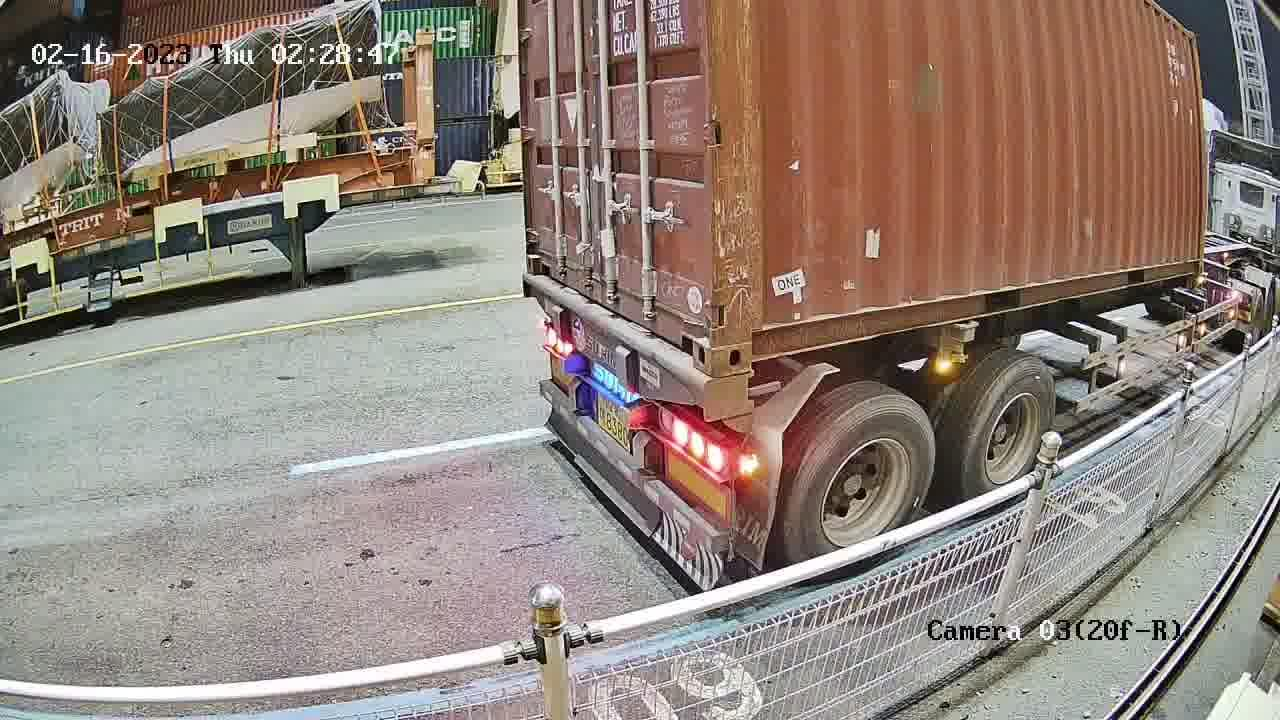Chassis: (524, 275, 710, 419)
Cone: (706, 369, 755, 413)
Hole_L: (712, 290, 781, 374), (524, 239, 557, 284)
Hole_R: (668, 291, 712, 376)
Tire: (786, 399, 936, 555), (957, 364, 1057, 493)
